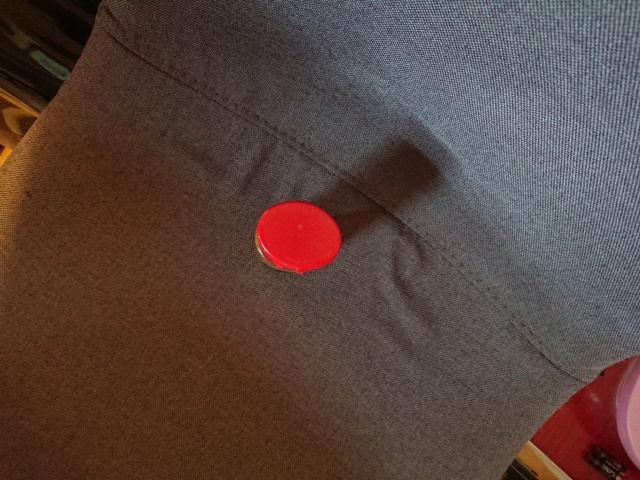Kotanyi Curry Spices Mix 70g: (252, 198, 345, 276)
